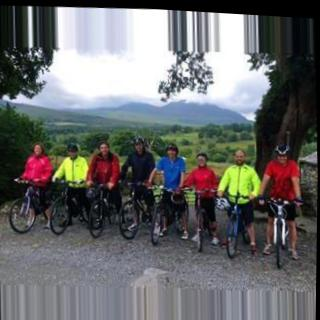Bike: (7, 178, 58, 238), (179, 185, 220, 254), (219, 192, 259, 262), (117, 177, 157, 241), (48, 178, 90, 238), (149, 185, 186, 247), (264, 202, 295, 271), (85, 181, 120, 240)
Person-Bike: (256, 143, 306, 262), (215, 147, 263, 256), (118, 136, 159, 240), (181, 150, 222, 250), (153, 142, 190, 243), (51, 142, 92, 230), (14, 141, 57, 223), (84, 140, 123, 228)
